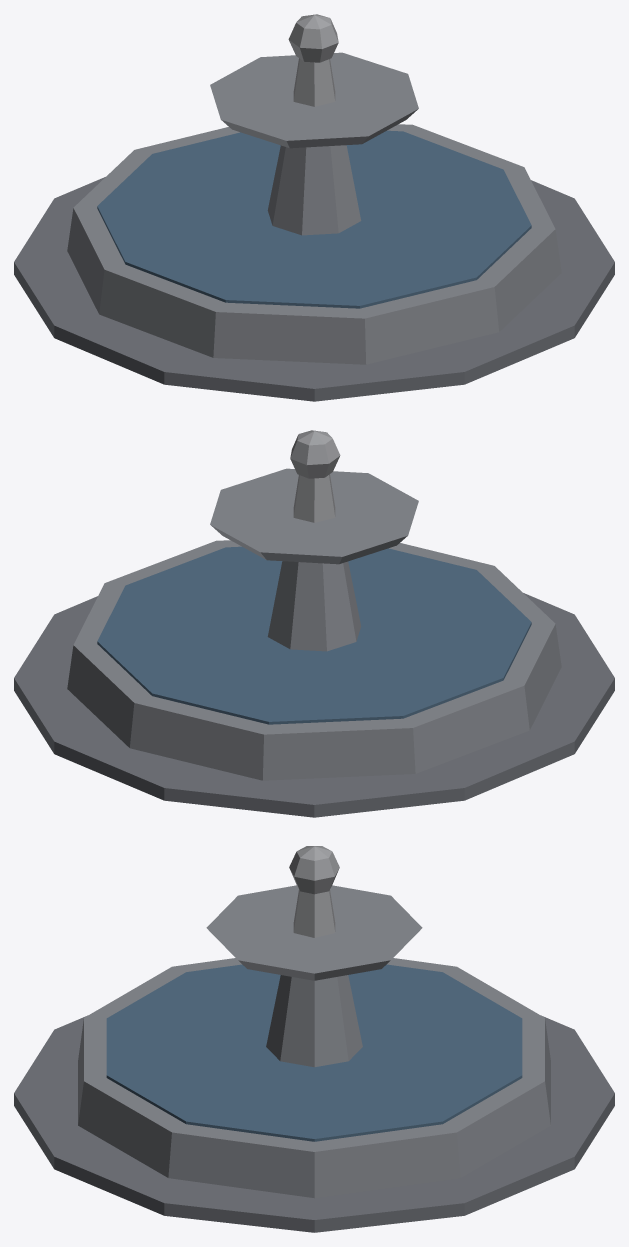
The model's file is fuente.glb.
3 views of the same model, one above another, from view 1: azimuth 30°, elevation 25°; view 2: azimuth 150°, elevation 25°; view 3: azimuth 270°, elevation 25° (orthographic).
Visible parts, largest first — view 1: Fuente; view 2: Fuente; view 3: Fuente.
Boxes of the visible parts, <box> form: Fuente: <box>14,14,614,401</box>; Fuente: <box>14,430,614,817</box>; Fuente: <box>14,846,614,1232</box>.
Bounding box in the file's own units: 6 × 2.86 × 6.
